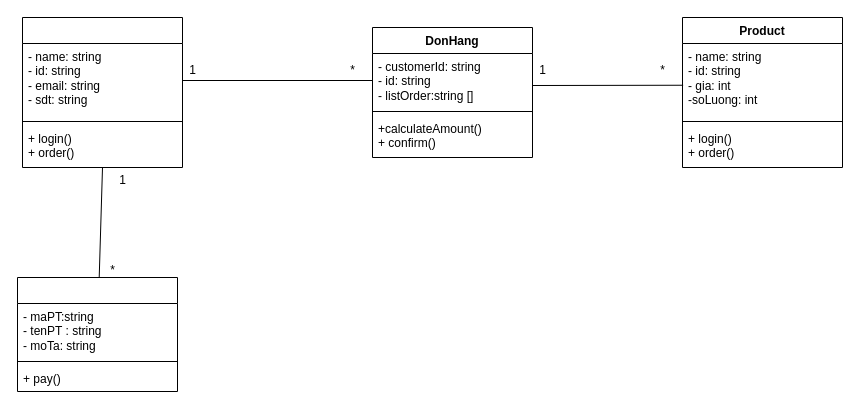
Some shapes in this 860 by 412 pixel diagram are drawn without their labels. Each missing label, with the box of its shape:
Customer: (22, 16, 182, 168)
PayMethod: (16, 276, 178, 392)
